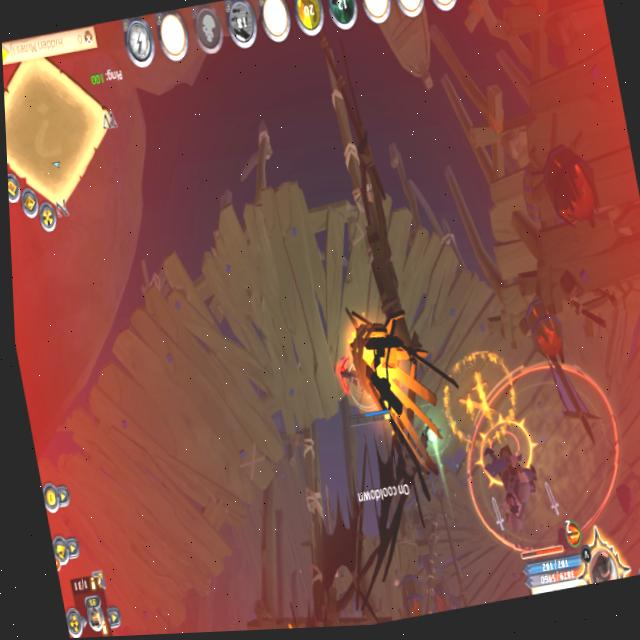ore: (471, 414, 567, 573)
red: (332, 341, 399, 431)
silver: (471, 362, 618, 558)
